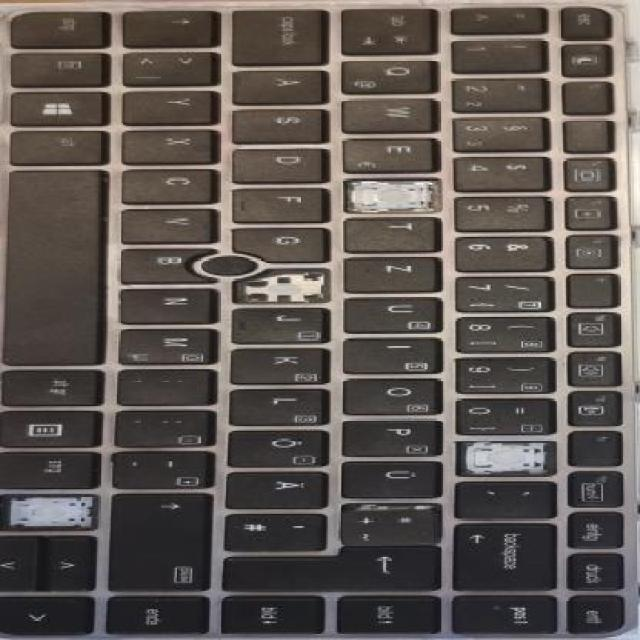Keyboard problems: (232, 269, 329, 303), (0, 495, 97, 529), (457, 442, 555, 475), (346, 180, 438, 212)
